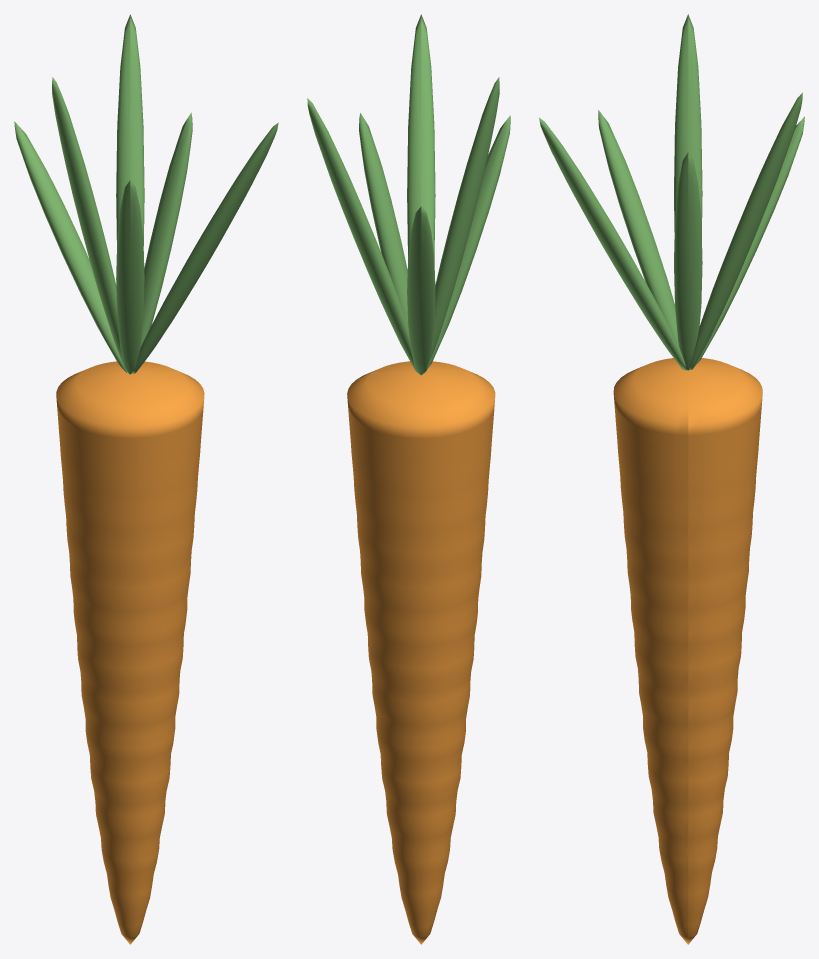
File: cenoura.glb
The picture shows the model from 3 angles, left to right: view 1: azimuth 30°, elevation 25°; view 2: azimuth 150°, elevation 25°; view 3: azimuth 270°, elevation 25°; orthographic projection.
Visible parts, largest first — view 1: cenoura; view 2: cenoura; view 3: cenoura.
Part boxes in pixels (x1=…): cenoura: x1=14, y1=14, x2=278, y2=944; cenoura: x1=307, y1=14, x2=510, y2=944; cenoura: x1=539, y1=14, x2=804, y2=944.
Size of the model in its own units: 0.5618 by 3.09 by 0.8355.
